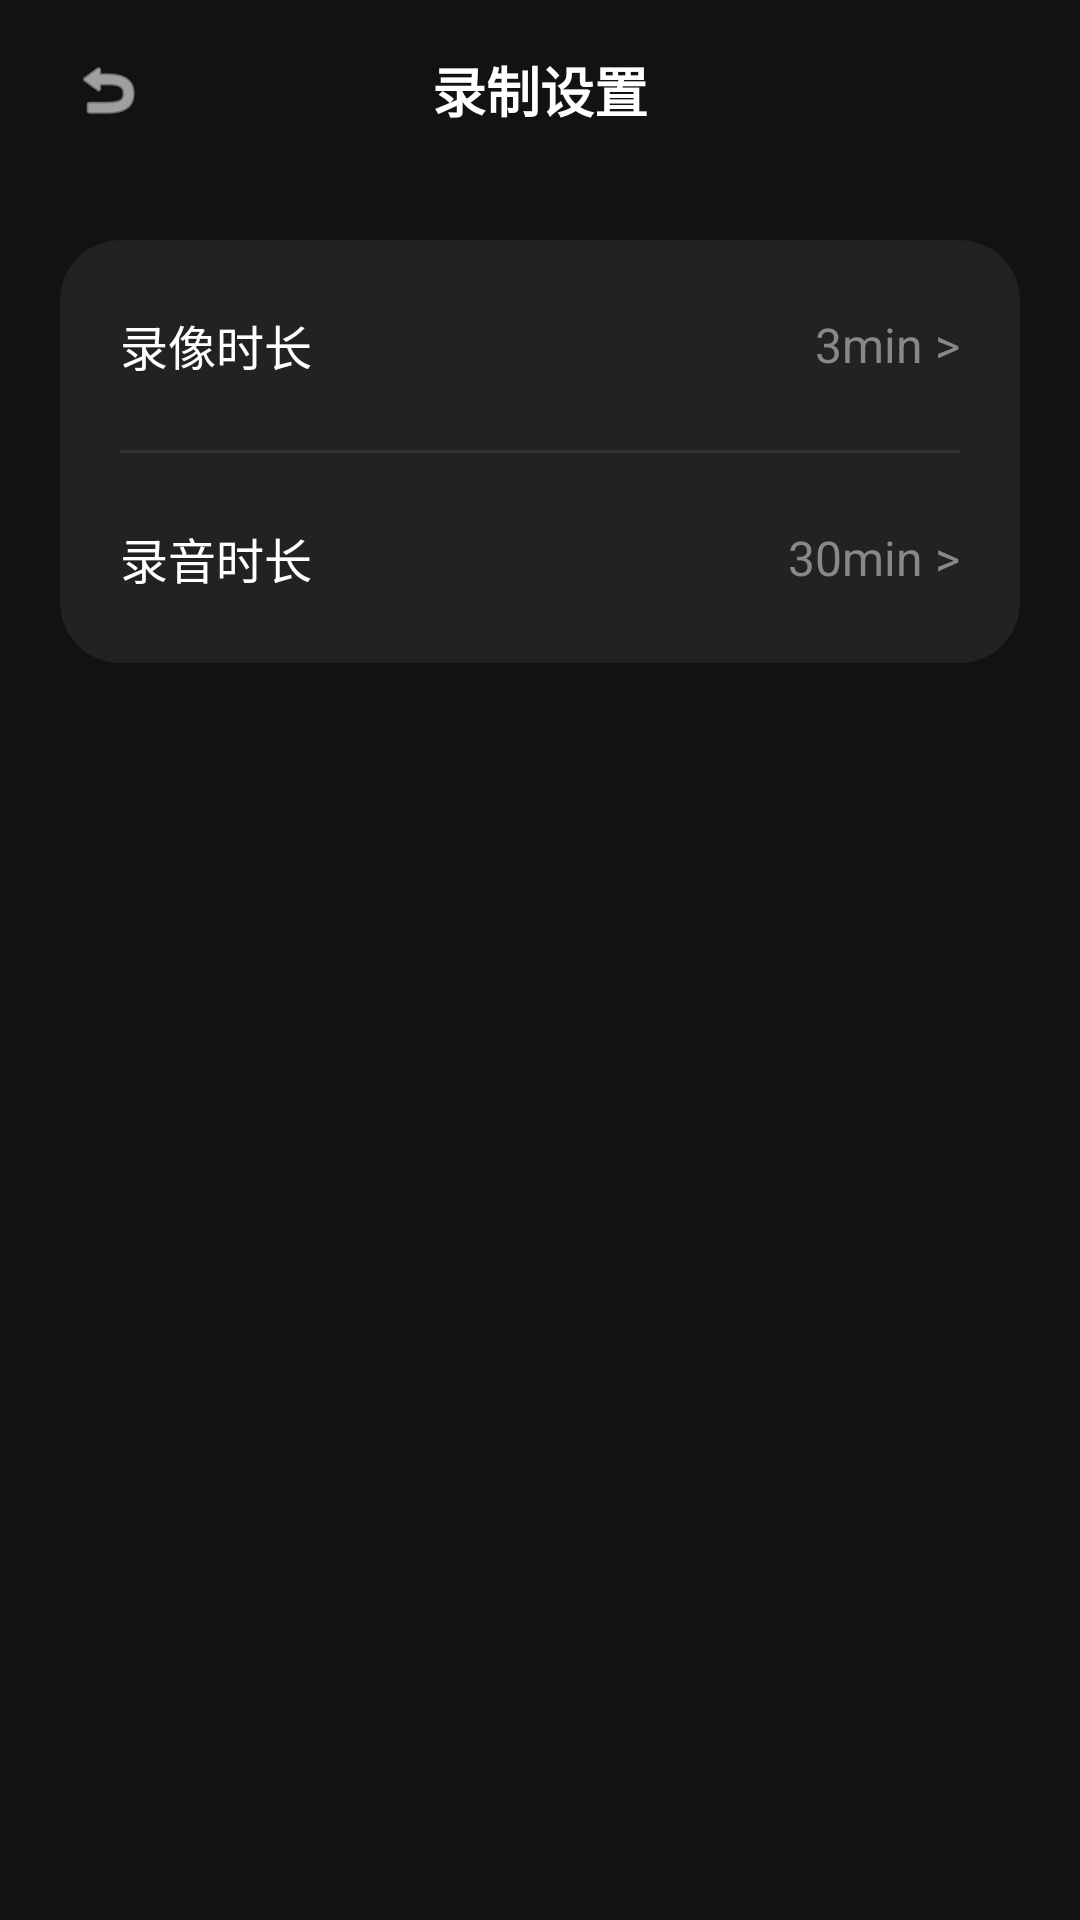

Icon click points for this 1080*1920 phone screenshot, format (x,y):
revert: (109,90)
